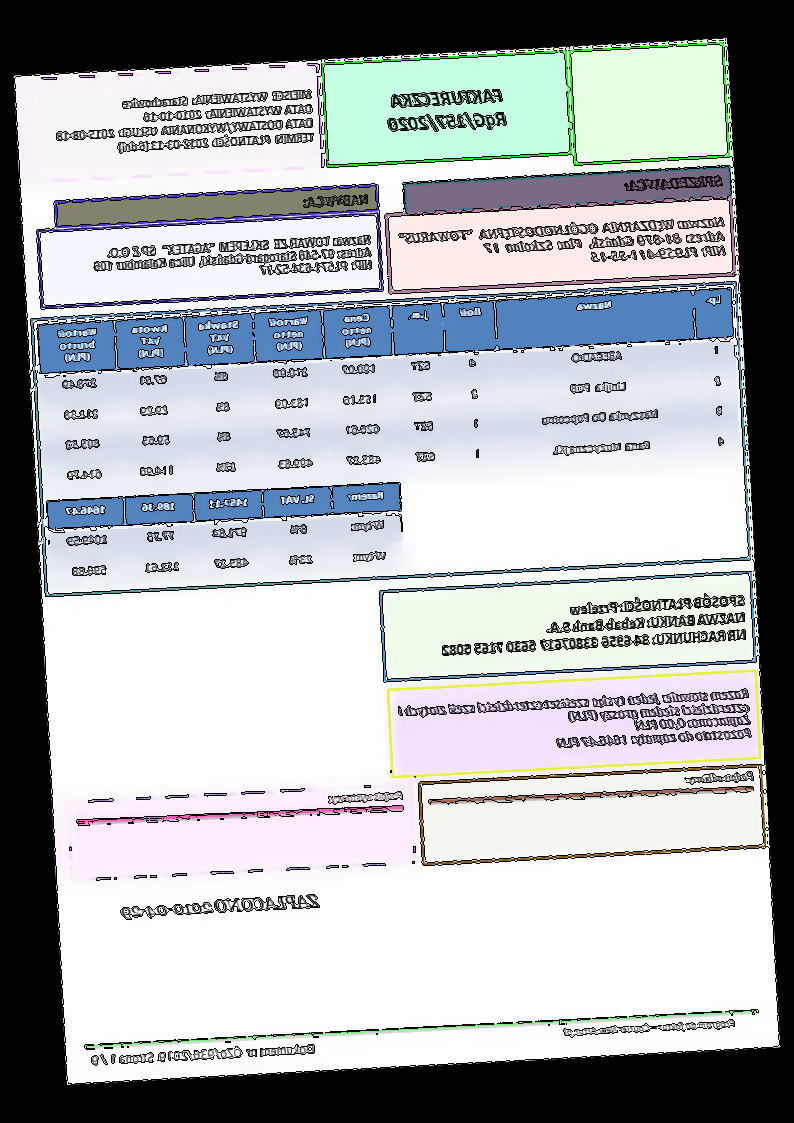Table: (37, 286, 742, 497), (45, 481, 407, 591)
TextBox: (395, 686, 754, 759), (437, 591, 750, 660), (398, 214, 729, 274), (53, 88, 317, 157), (92, 232, 375, 285), (385, 86, 510, 138), (119, 891, 322, 923), (90, 1042, 317, 1068), (562, 1016, 739, 1040), (623, 173, 726, 193), (301, 191, 371, 212), (682, 768, 756, 786), (327, 789, 405, 806)
